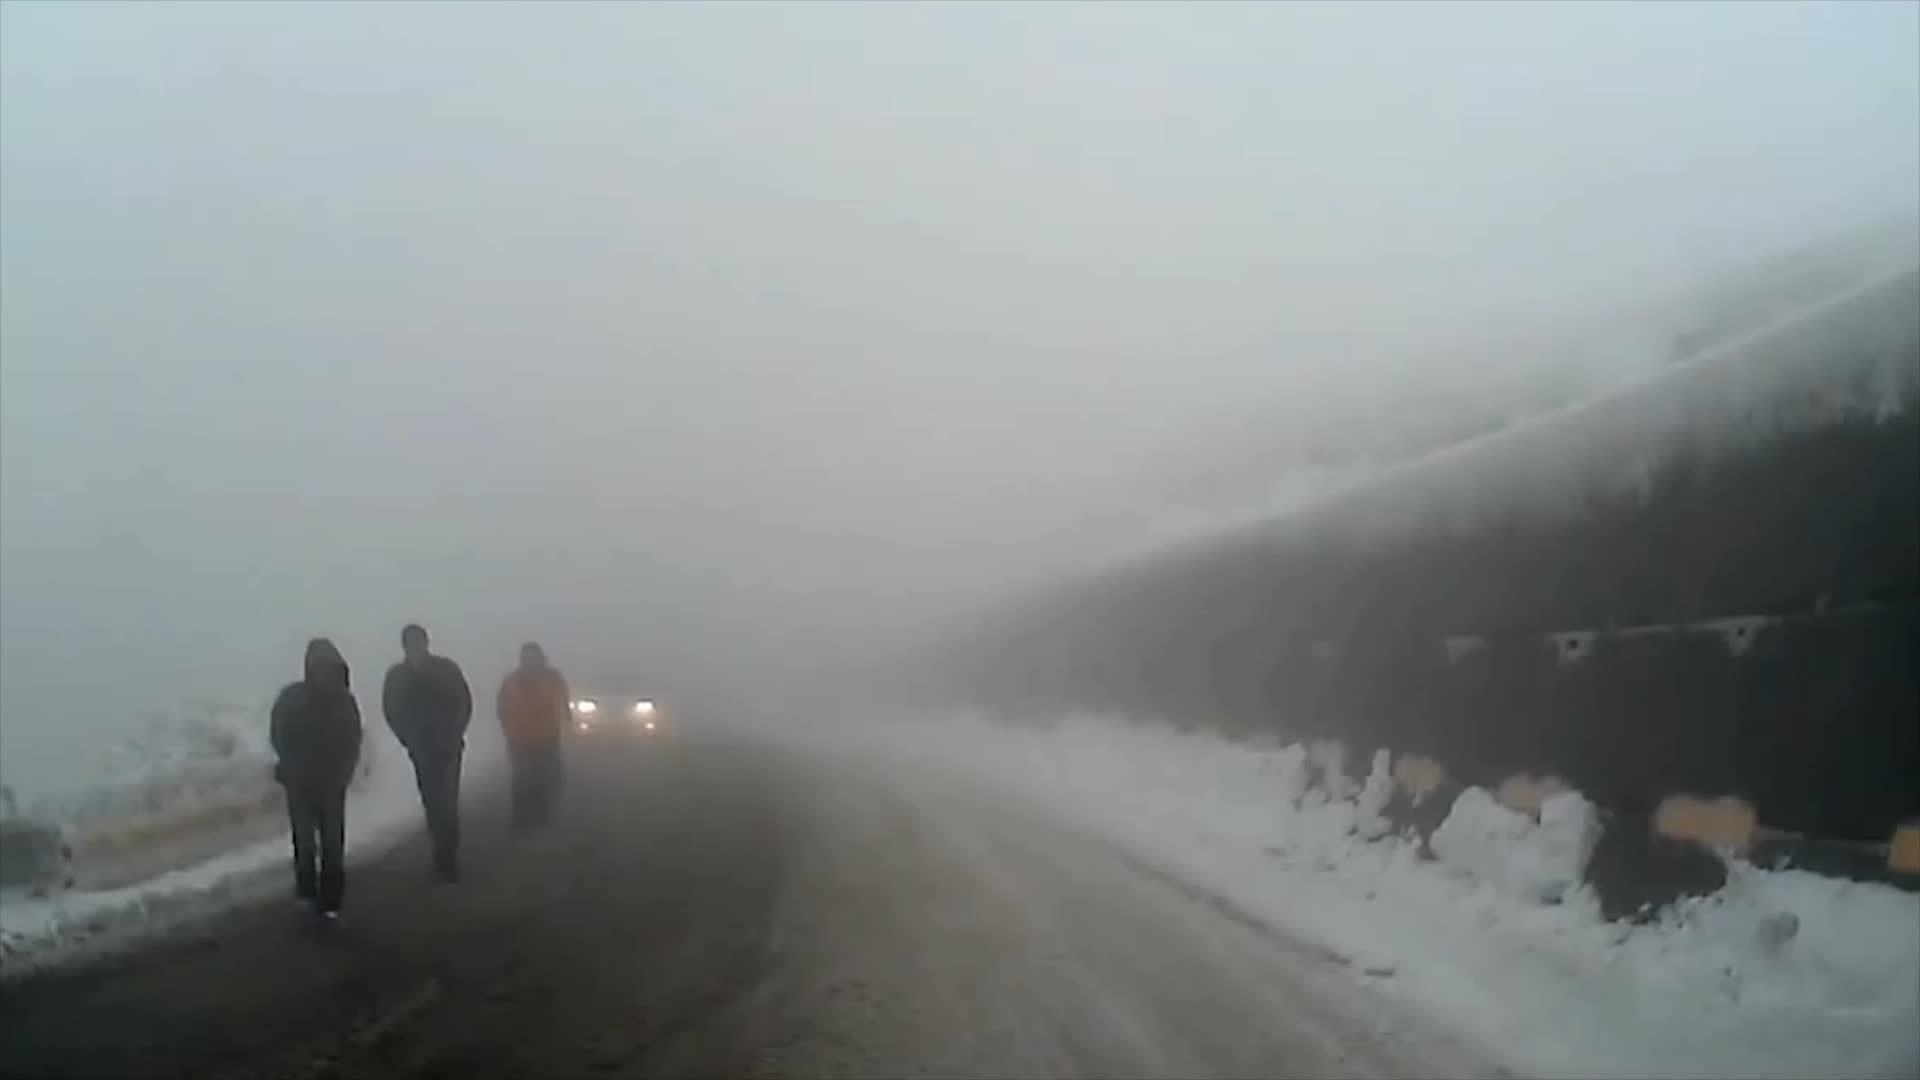pedestrian: (271, 636, 366, 923), (383, 629, 470, 888), (493, 640, 575, 836)
vehicle: (567, 675, 664, 752)
